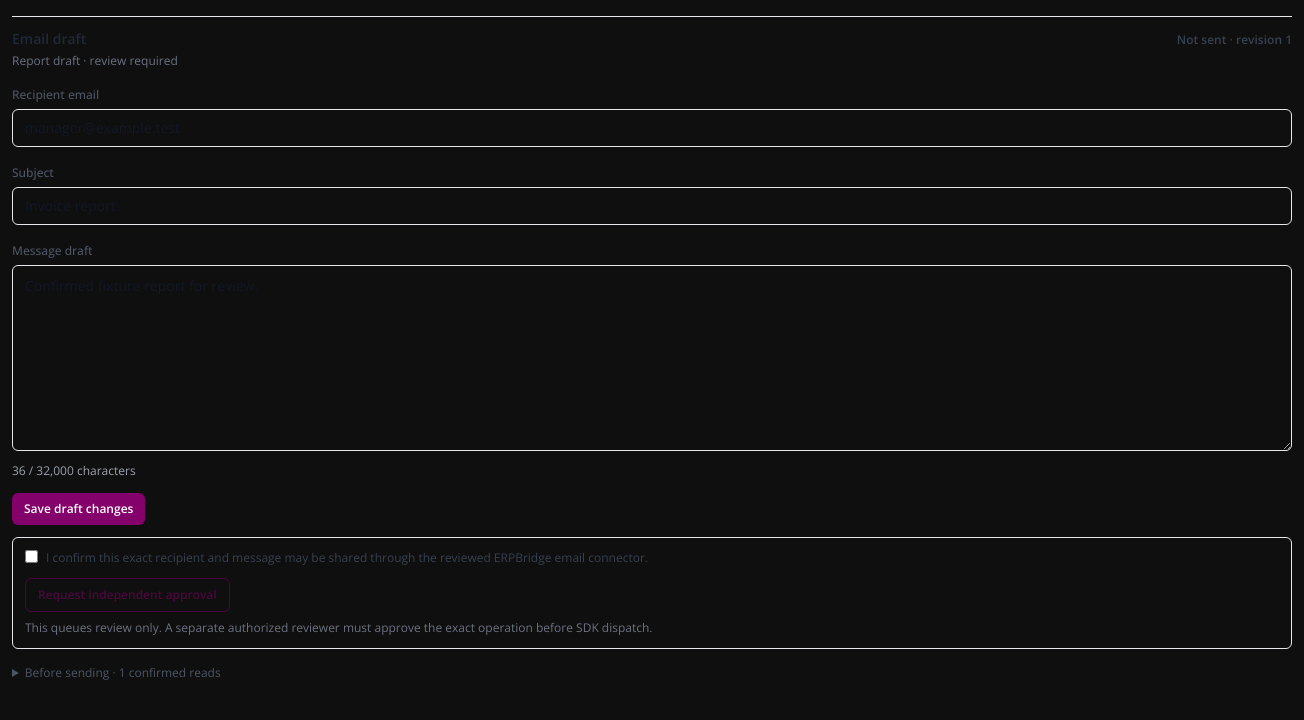
Test: confirmed save followed by failed refresh is not mislabeled as failed persistence
Click the button "Save draft changes". click: (79, 509)
box: [12,493,145,525]
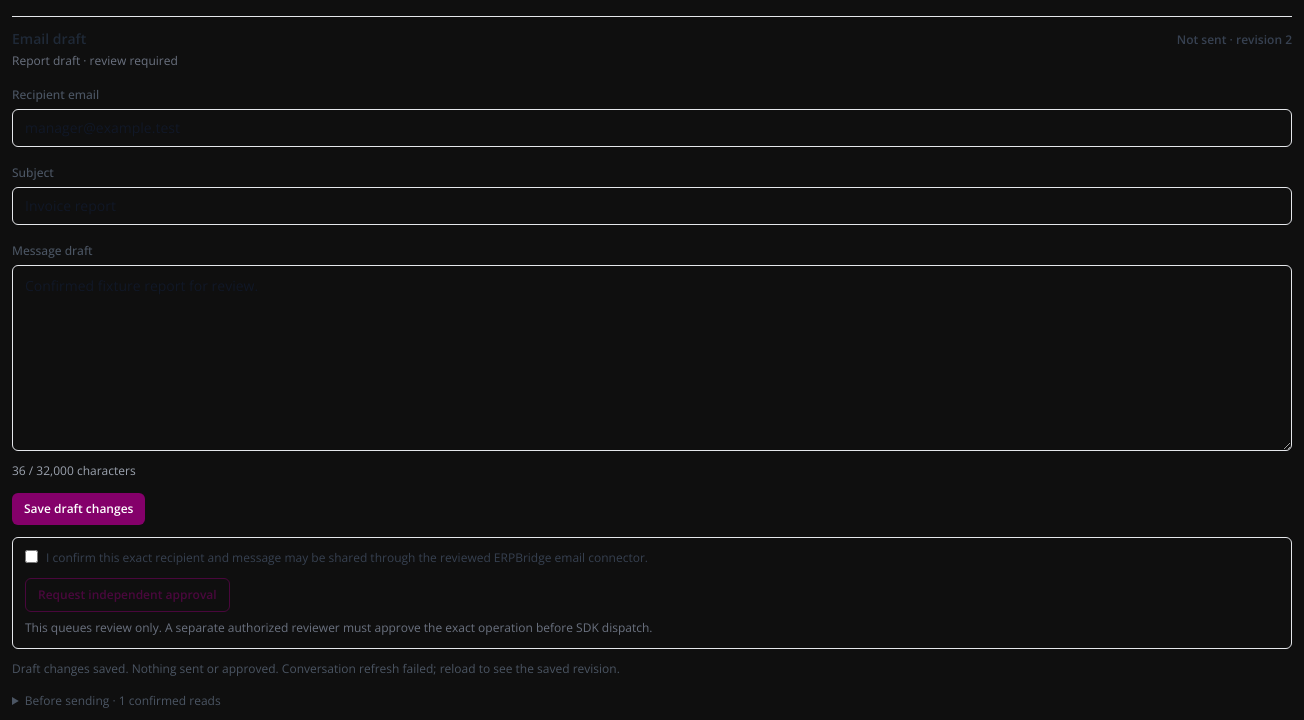
Now the message shows "Conversation refresh failed", box [12,660,620,677]
Now the text "Not sent · revision 2" is shown, box [1177,32,1292,48]
